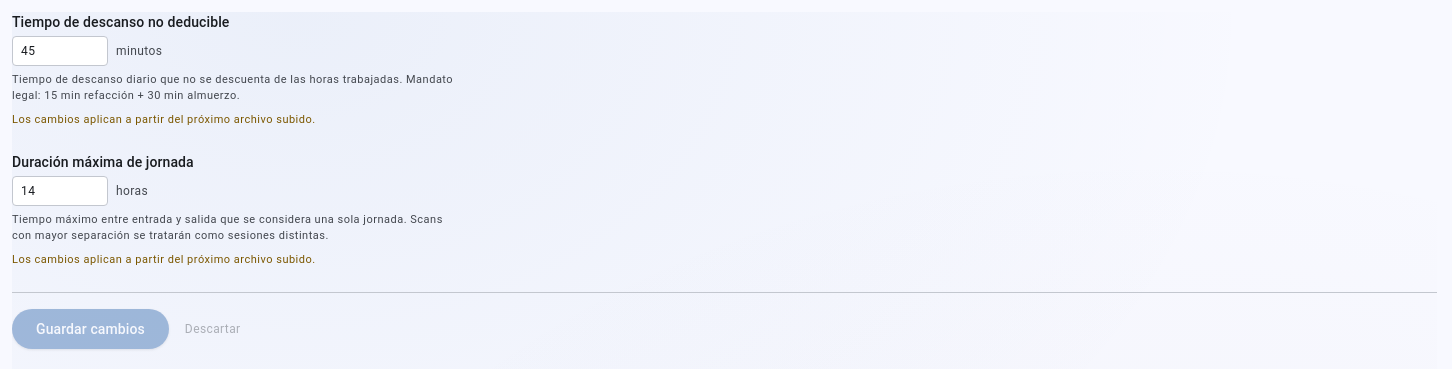
Test: GeneralTab editing › Guardar cambios is enabled when dirty
Replace the text in the number field named "tiempo de descanso" with "60" at (60, 51), box [12,36,108,66]
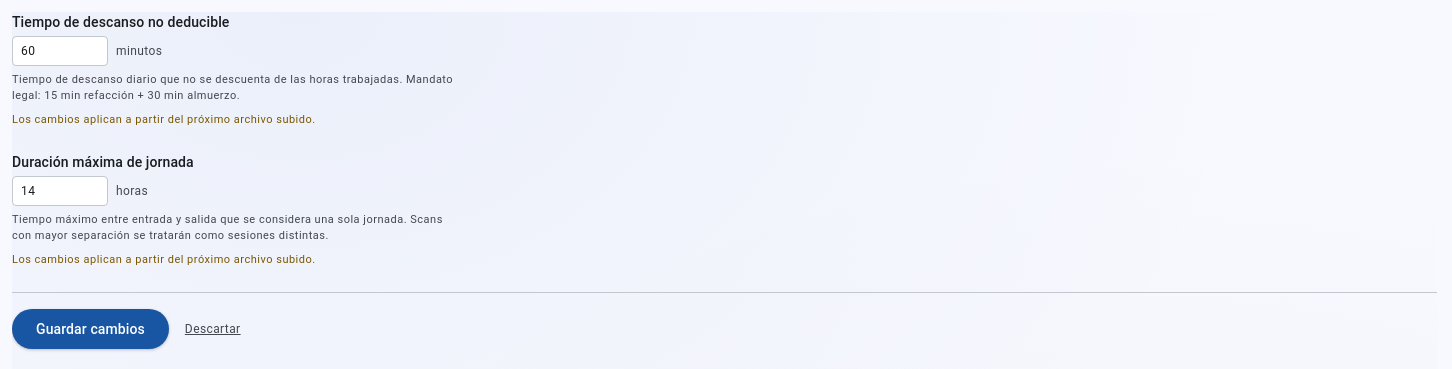
Now the button "Guardar cambios" is enabled, box [12,309,169,349]
